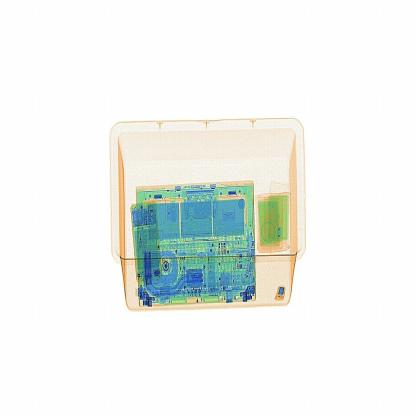wrench: (271, 282, 293, 311)
